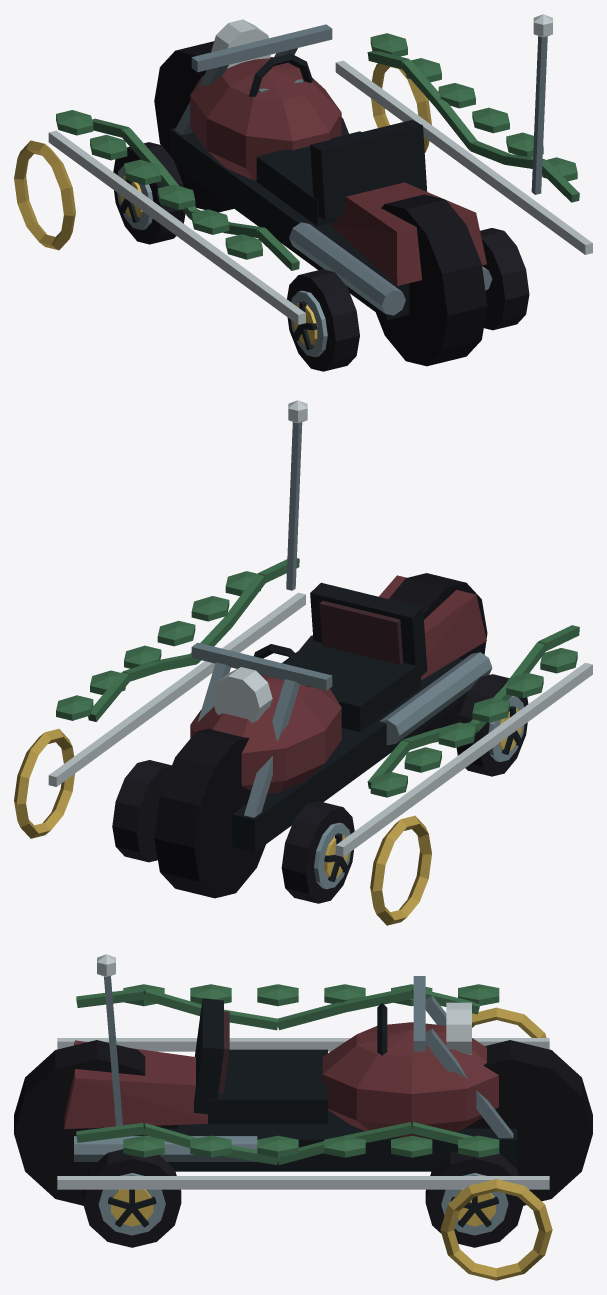
Rendered from kart.glb.
The picture shows the model from 3 angles, top to bottom: view 1: azimuth 30°, elevation 25°; view 2: azimuth 150°, elevation 25°; view 3: azimuth 270°, elevation 25°; orthographic projection.
Visible parts, largest first — view 1: identity-motorbike-motorbike-tank-and-fork, identity-motorbike-motif-vines, identity-motorbike-motif-neon, identity-motorbike-driver-cockpit, wheel-rear-left, wheel-rear-right, wheel-front-left, identity-motorbike-motif-antenna; view 2: identity-motorbike-motorbike-tank-and-fork, identity-motorbike-motif-neon, identity-motorbike-motif-vines, identity-motorbike-driver-cockpit, wheel-front-left, wheel-front-right, wheel-rear-left, identity-motorbike-motif-antenna; view 3: identity-motorbike-motorbike-tank-and-fork, identity-motorbike-motif-vines, identity-motorbike-motif-neon, identity-motorbike-driver-cockpit, wheel-rear-right, wheel-front-right, identity-motorbike-motif-antenna.
Boxes of the visible parts, x1,y1,x2,y2 form: identity-motorbike-motorbike-tank-and-fork: [154, 19, 492, 366]; identity-motorbike-motif-vines: [56, 33, 579, 270]; identity-motorbike-motif-neon: [14, 60, 592, 324]; identity-motorbike-driver-cockpit: [249, 53, 427, 226]; wheel-rear-left: [287, 269, 359, 371]; wheel-rear-right: [480, 228, 529, 330]; wheel-front-left: [113, 142, 185, 244]; identity-motorbike-motif-antenna: [531, 14, 552, 194]; identity-motorbike-motorbike-tank-and-fork: [154, 573, 492, 898]; identity-motorbike-motif-neon: [14, 592, 592, 925]; identity-motorbike-motif-vines: [56, 558, 579, 797]; identity-motorbike-driver-cockpit: [254, 582, 427, 731]; wheel-front-left: [281, 801, 354, 903]; wheel-front-right: [112, 760, 171, 862]; wheel-rear-left: [456, 674, 528, 776]; identity-motorbike-motif-antenna: [286, 400, 307, 590]; identity-motorbike-motorbike-tank-and-fork: [14, 976, 592, 1205]; identity-motorbike-motif-vines: [76, 984, 499, 1165]; identity-motorbike-motif-neon: [57, 1007, 552, 1280]; identity-motorbike-driver-cockpit: [194, 998, 387, 1124]; wheel-rear-right: [83, 1149, 181, 1247]; wheel-front-right: [425, 1151, 523, 1247]; identity-motorbike-motif-antenna: [97, 954, 122, 1126].
Bounding box in the file's own units: 2.13 × 1.72 × 2.94.
